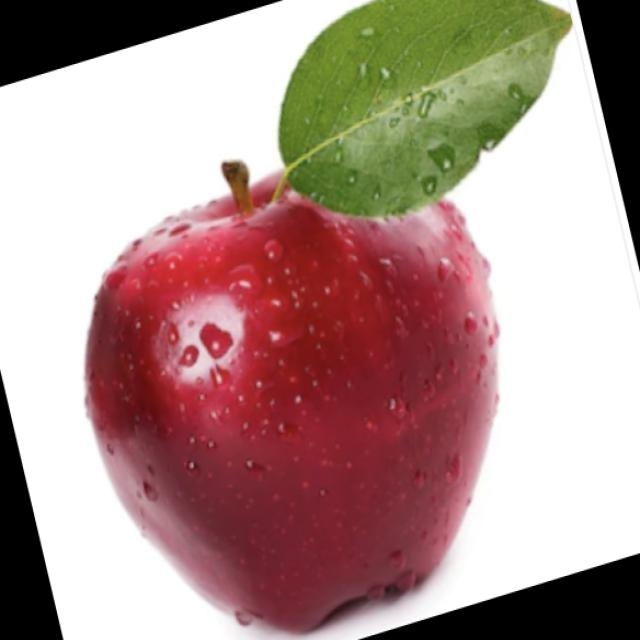organik: (74, 105, 535, 616)
